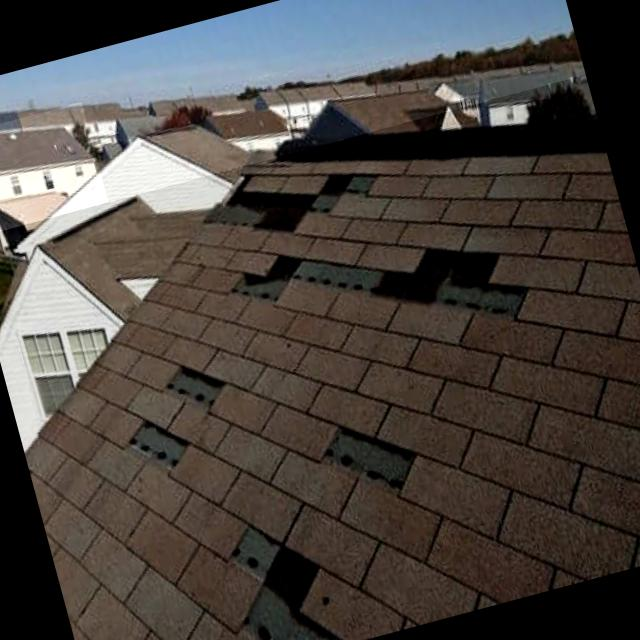House: (0, 74, 640, 640), (0, 101, 114, 260)
